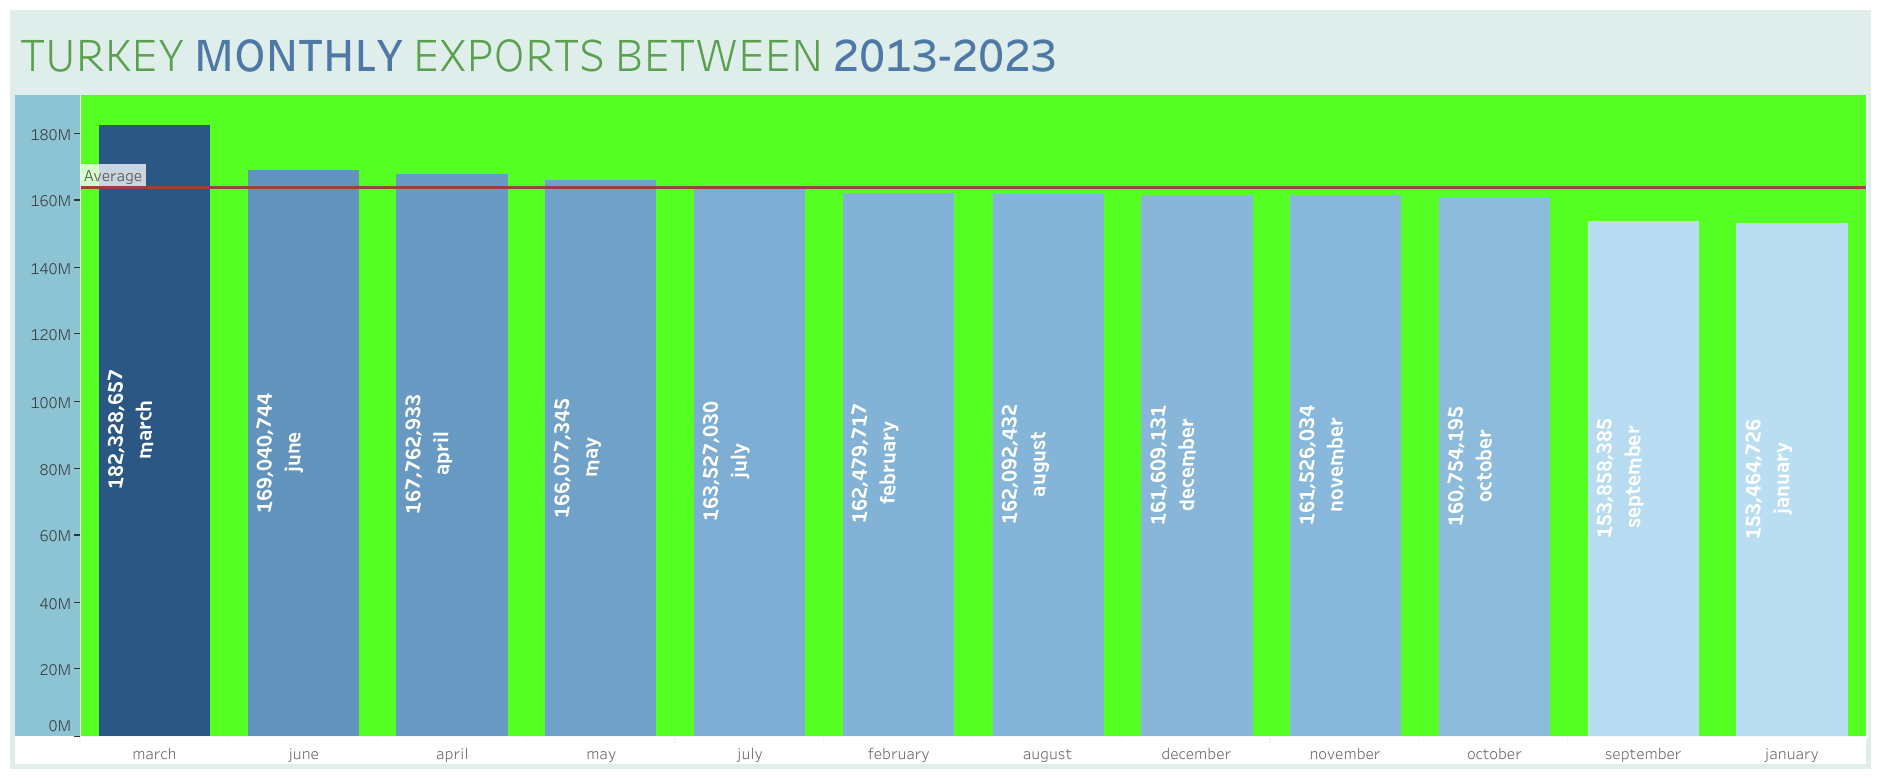

Layout of this report page (visuals, bound fields, positions):
{"tool":"tableau","page":{"name":"turkish export 2013-2023","canvas":[1000,1000],"units":"permille","ordinal":2},"visuals":[{"type":"worksheet","title":"turkish_export monthly","mark":"Bar","rows":["export_value"],"cols":["month"],"box":[5.3,9.4,989.4,981.2]}]}

Visuals, with their boxes on the dashboard's canvas, which has no fixed pixel size, in thousandths of its width and height (x1, y1, x2, y2). These are canvas units, not pixel positions in the 1880x778 screenshot, which may show the page scaled, cropped or inside an application window:
"turkish_export monthly" worksheet (Bar marks): {"x1": 5, "y1": 9, "x2": 995, "y2": 991}
